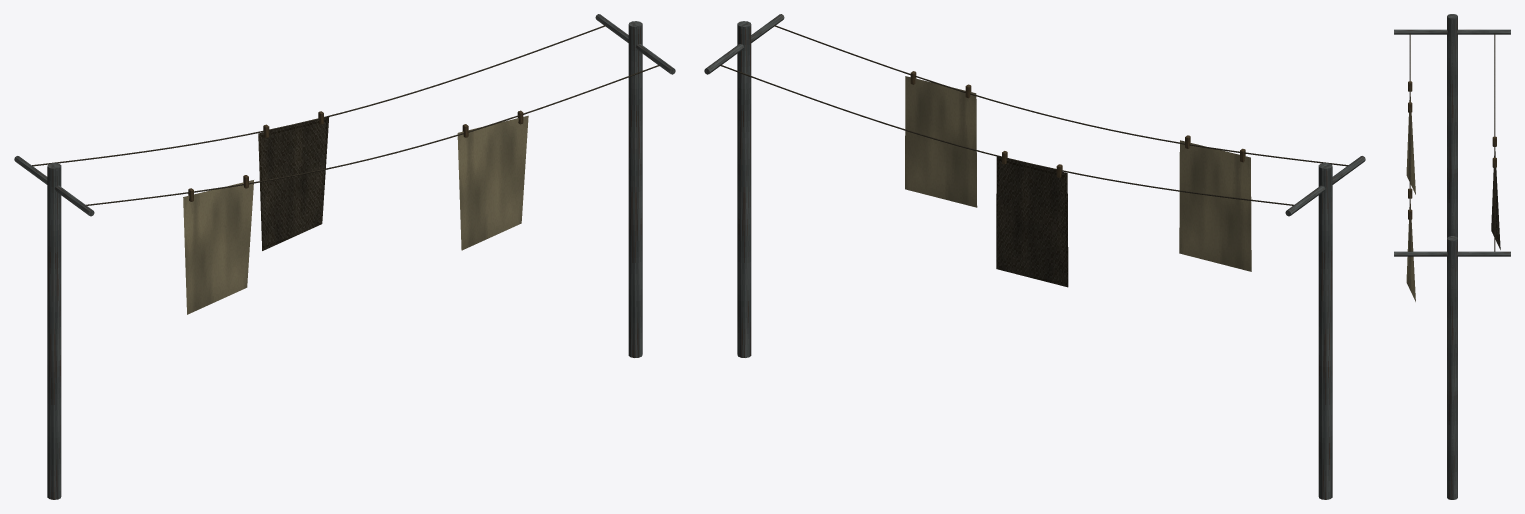
Rendered from level_yard_clothesline_worn.glb.
3 renders of one model, left to right at view 1: azimuth 30°, elevation 25°; view 2: azimuth 150°, elevation 25°; view 3: azimuth 270°, elevation 25°, orthographic. The views are drawn at different scales.
Parts seen in each view (by area): view 1: level_yard_clothesline_worn; view 2: level_yard_clothesline_worn; view 3: level_yard_clothesline_worn.
Boxes of the visible parts, box(x1,y1,x2,y2) form: level_yard_clothesline_worn: box(14, 14, 675, 499); level_yard_clothesline_worn: box(704, 14, 1365, 499); level_yard_clothesline_worn: box(1394, 14, 1510, 499).
Bounding box in the file's own units: 3.67 × 1.96 × 0.8.
Materials: 4 (4 with a texture image).
